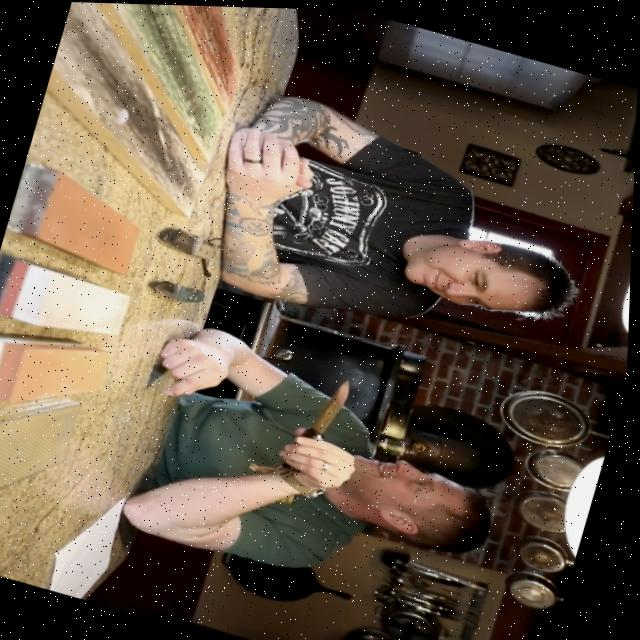knife: (290, 362, 377, 447), (156, 222, 224, 261), (153, 277, 208, 306)
